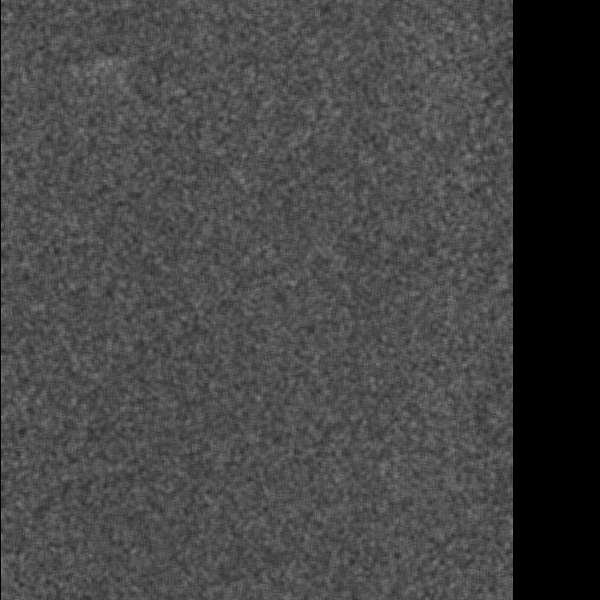spark: (384, 62, 418, 83)
